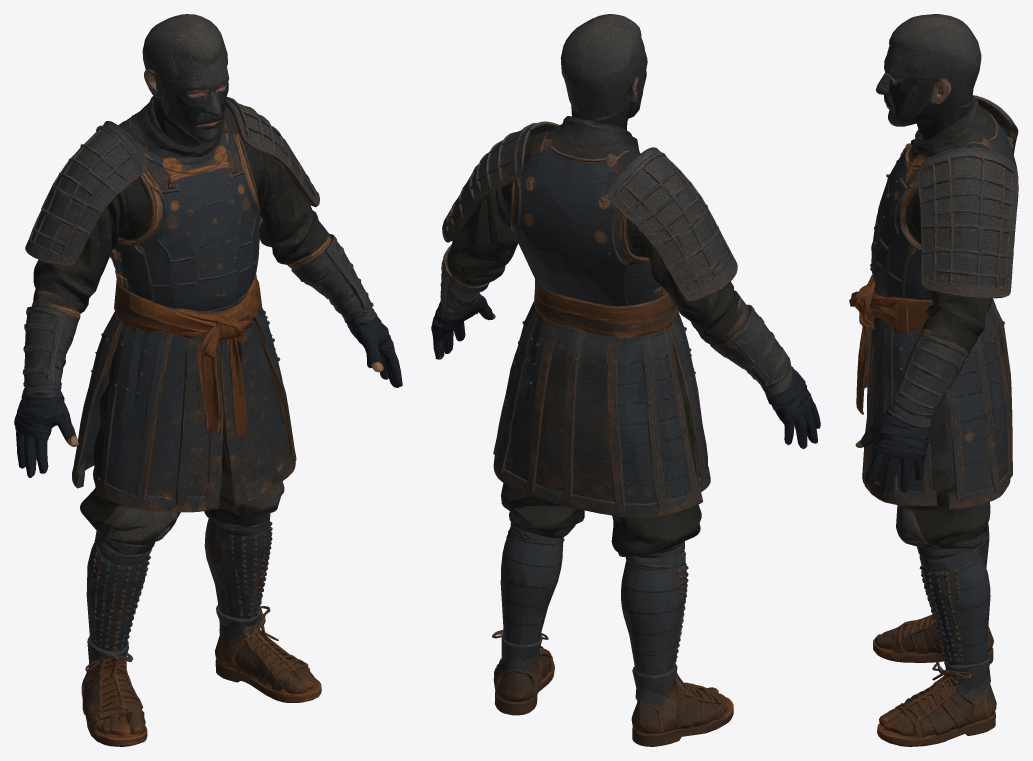
File: forest_ashigaru_refine.glb
3 renders of one model, left to right at view 1: azimuth 30°, elevation 25°; view 2: azimuth 150°, elevation 25°; view 3: azimuth 270°, elevation 25°, orthographic. The views are drawn at different scales.
Size of the model in its own units: 1.08 by 1.9 by 0.432.
1 material, 1 textured.
